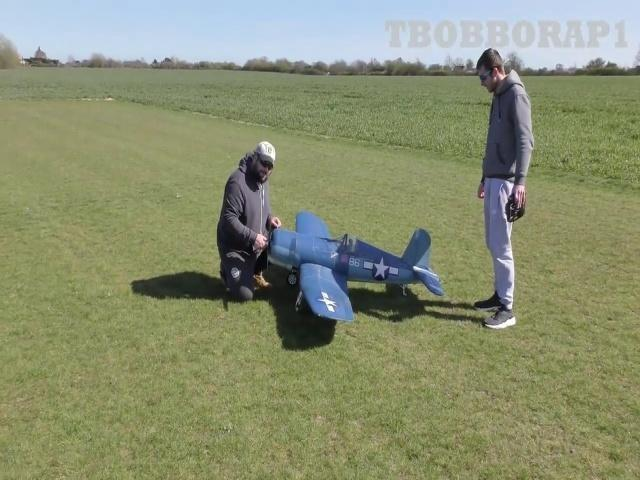Airplane: (269, 212, 443, 320)
